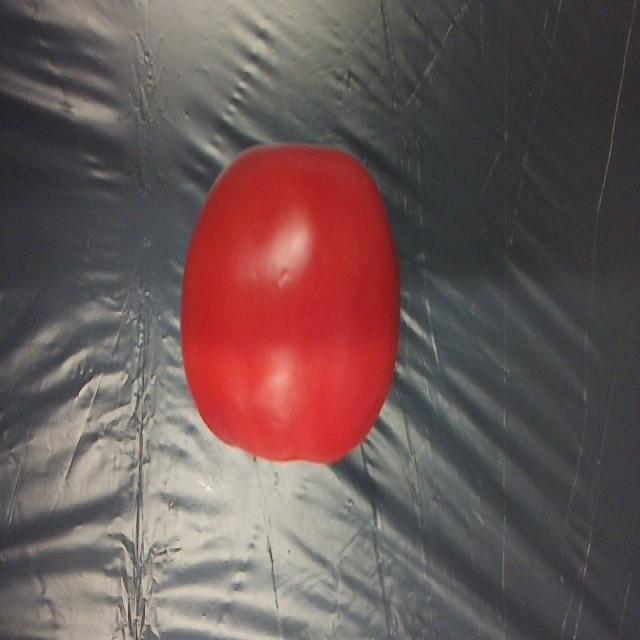kirmizi: (182, 126, 402, 463)
